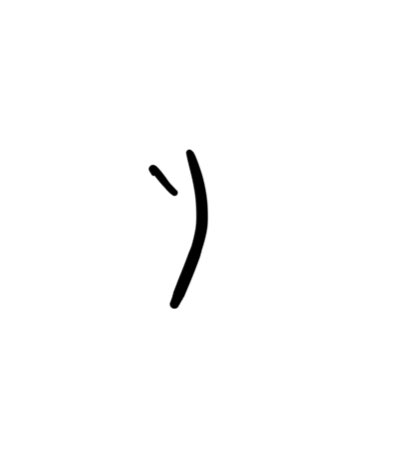so: (133, 144, 219, 320)
